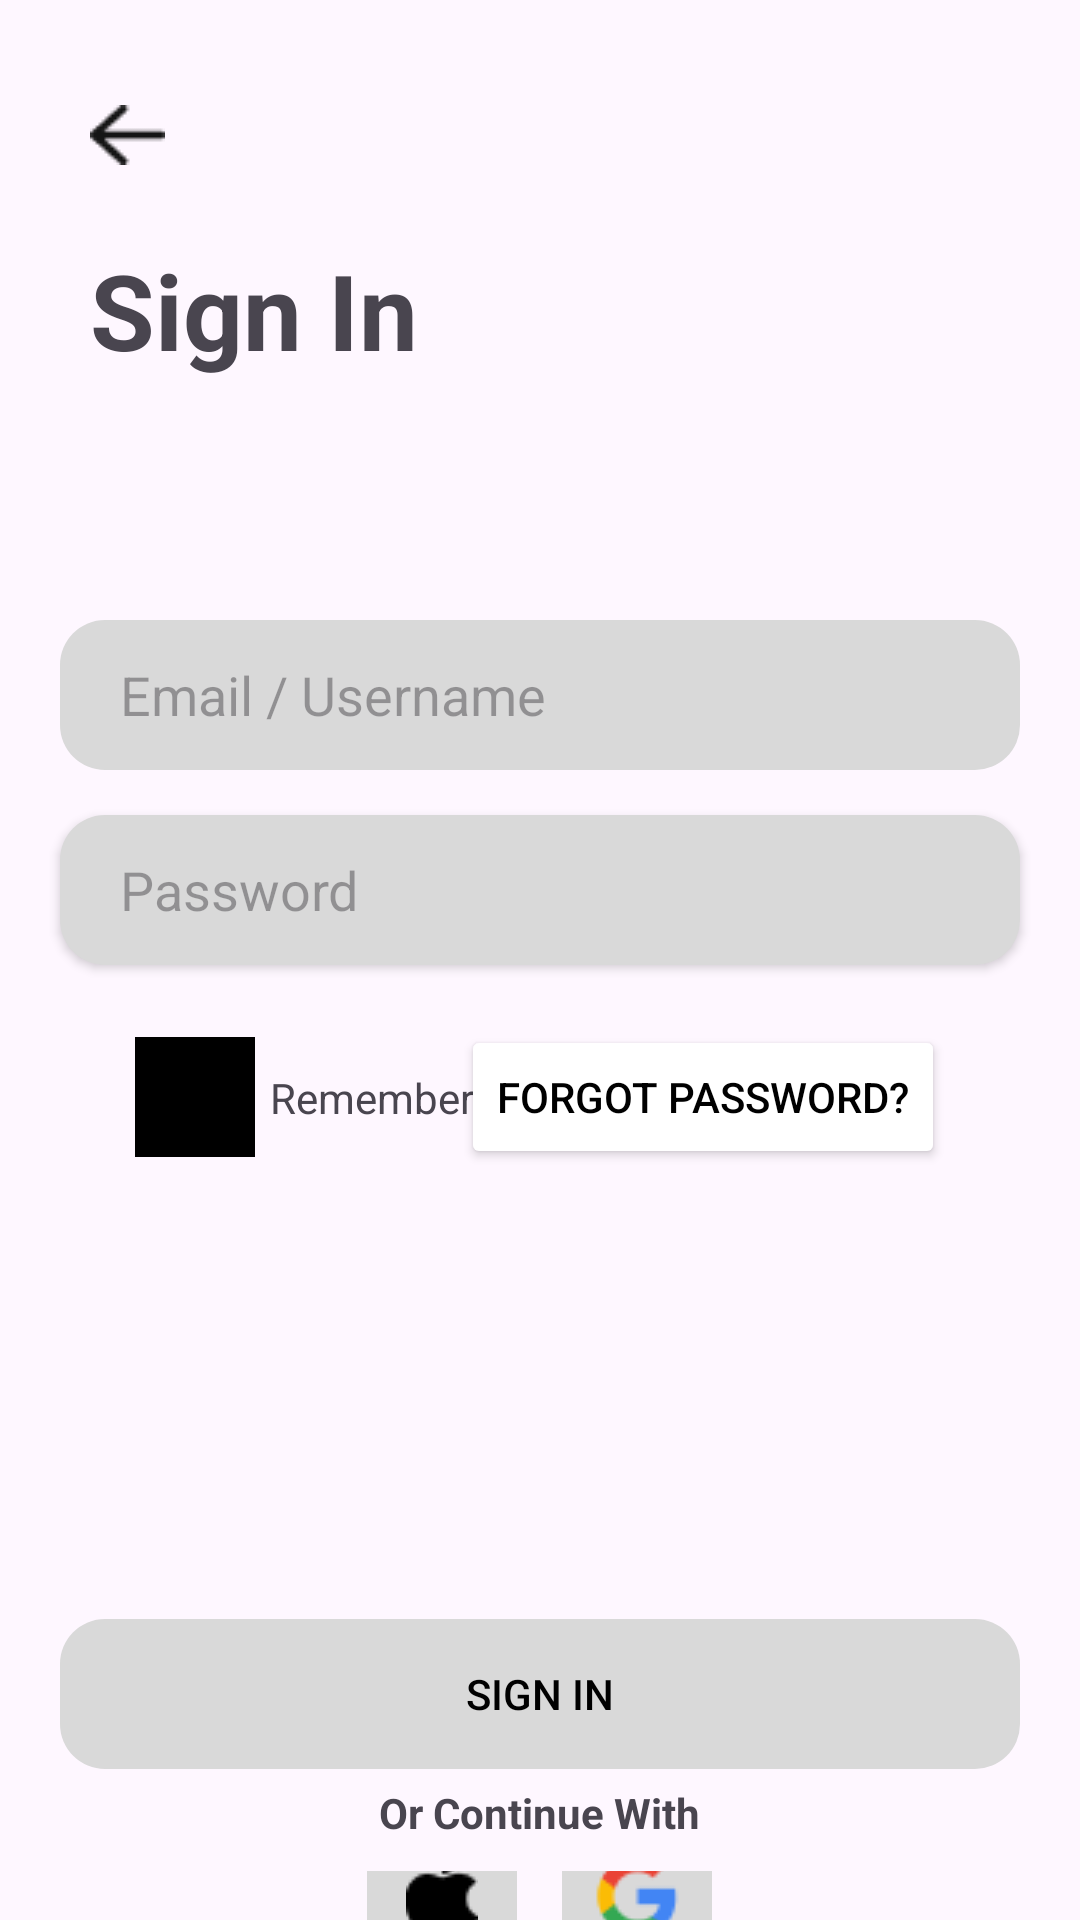

Icons on this 1080×1920 Android screen, each with its box as (x1=x1, y1=y1, x2=x2, y2=y2):
back: (x1=90, y1=105, x2=165, y2=165)
